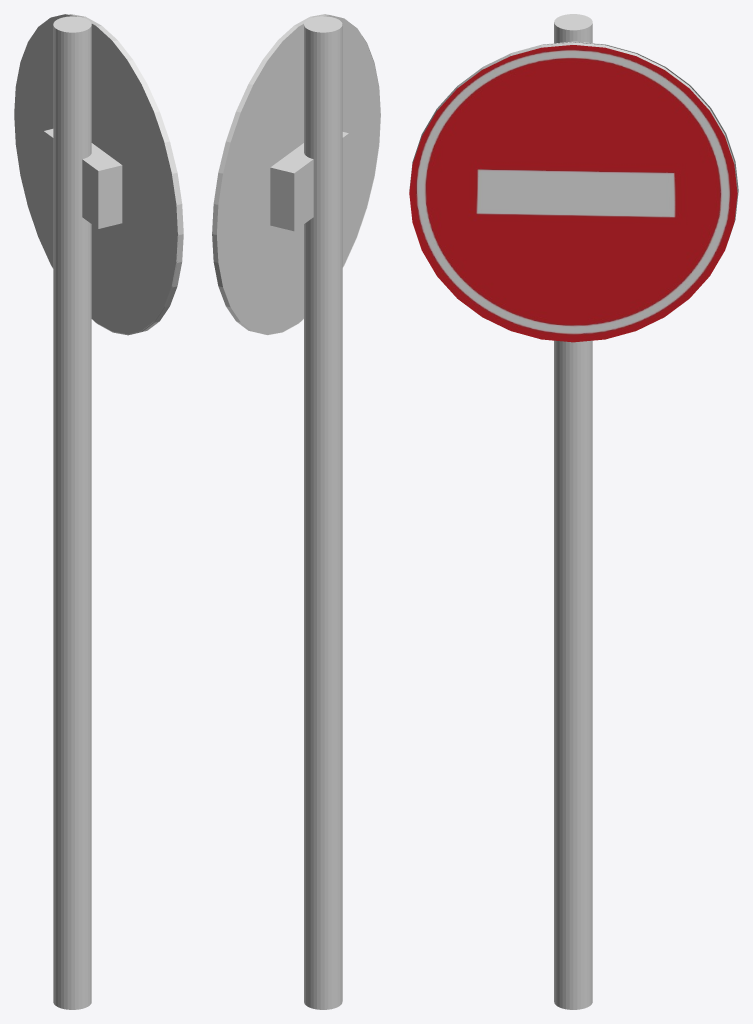
File: Lar.Masuk.fbx
3 views of the same model, side by side, from view 1: azimuth 30°, elevation 25°; view 2: azimuth 150°, elevation 25°; view 3: azimuth 270°, elevation 25° (orthographic).
Parts seen in each view (by area): view 1: Cylinder, Cylinder.001, Cube; view 2: Cylinder, Cylinder.001, Cube; view 3: Cylinder.001, Cylinder.
Part boxes in pixels (box(x1,y1,x2,y2)): Cylinder: box(53, 16, 91, 1009); Cylinder.001: box(14, 14, 183, 335); Cube: box(43, 129, 122, 228); Cylinder: box(304, 16, 342, 1009); Cylinder.001: box(212, 14, 380, 335); Cube: box(270, 132, 348, 231); Cylinder.001: box(409, 41, 738, 342); Cylinder: box(554, 14, 592, 1009).
Bounding box in the file's own units: 35.85 × 727 × 222.
